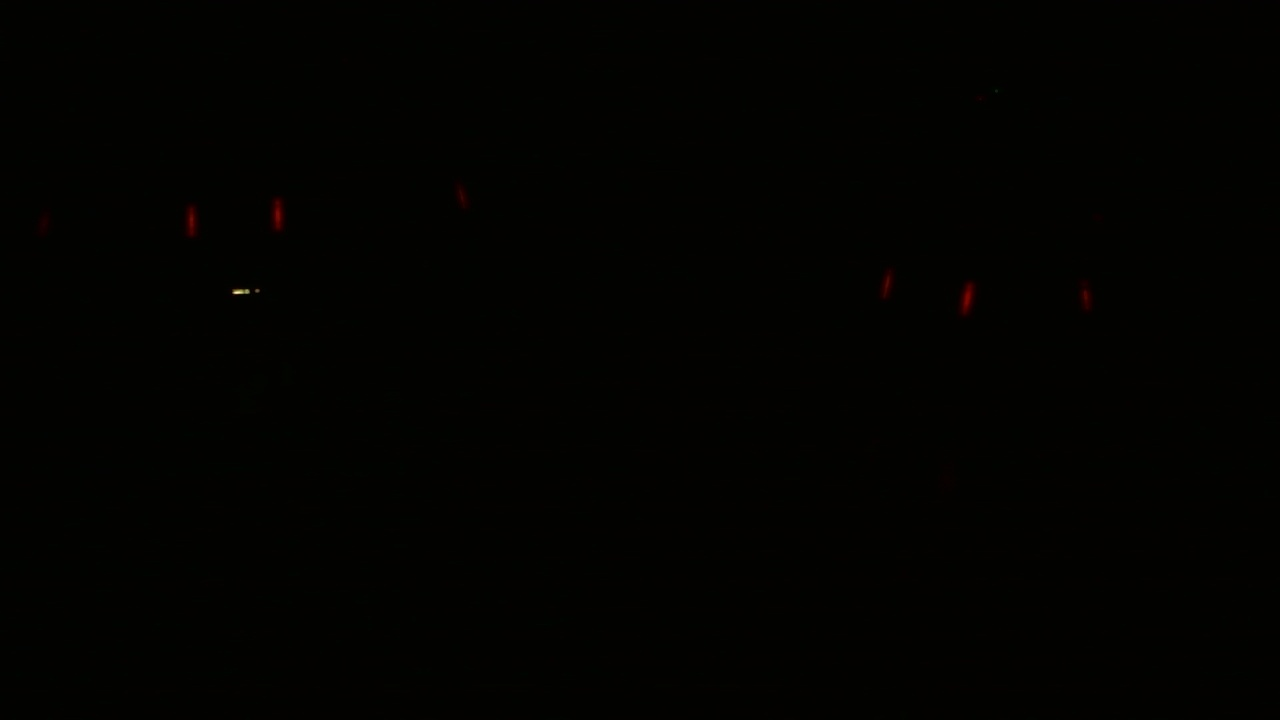pair1: (877, 261, 976, 313), (181, 202, 285, 235)
